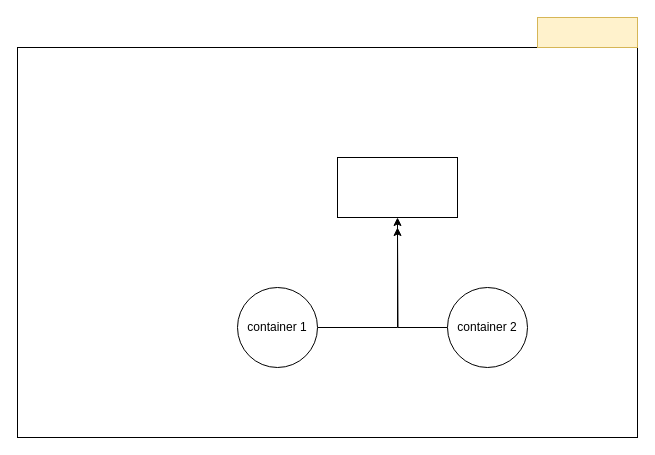
Image size: 655x455. Some labels were removed from this diagram. The shapes that lost their labels are listed below. From the top down, each one's centre as x and y in pixels, then its label:
(x=587, y=32): host
(x=397, y=187): docker0虚拟网卡
